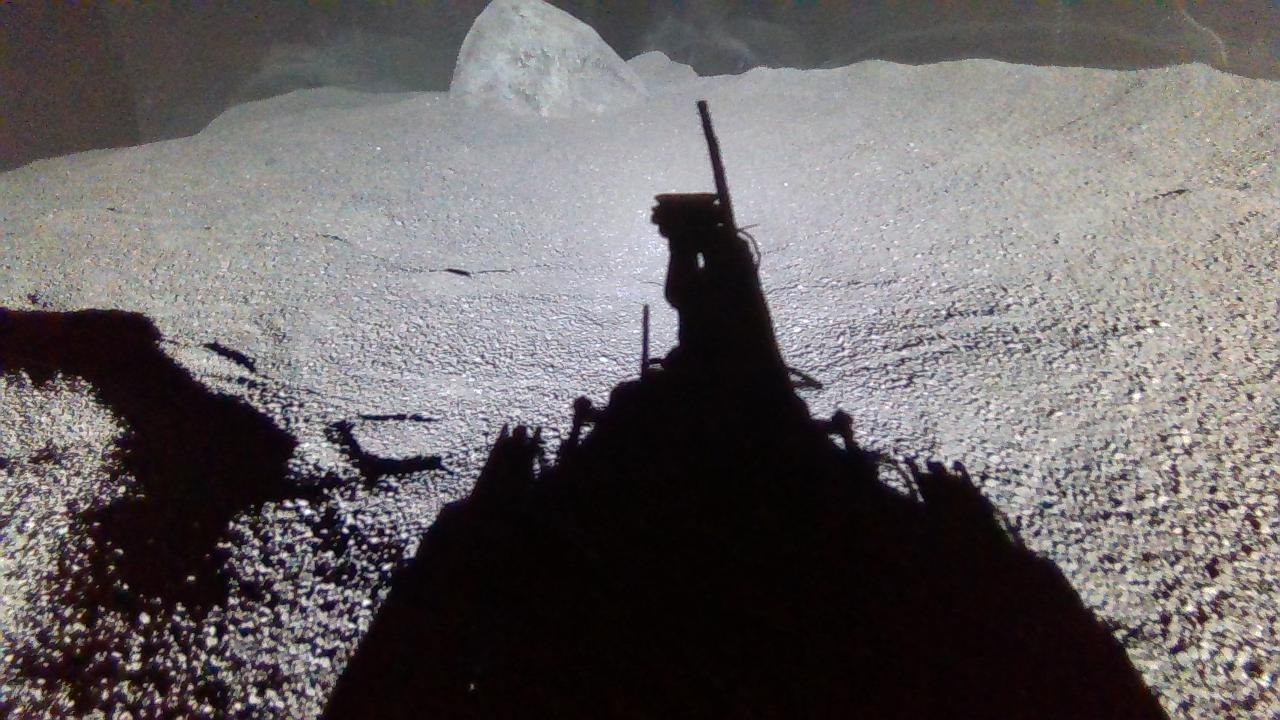rock: (450, 0, 648, 116)
